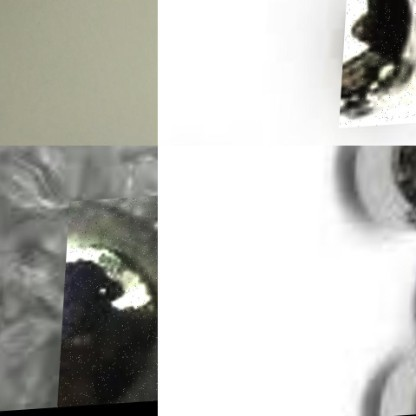ironball: (60, 197, 157, 410), (340, 0, 415, 131), (337, 145, 415, 255), (357, 323, 415, 415)
